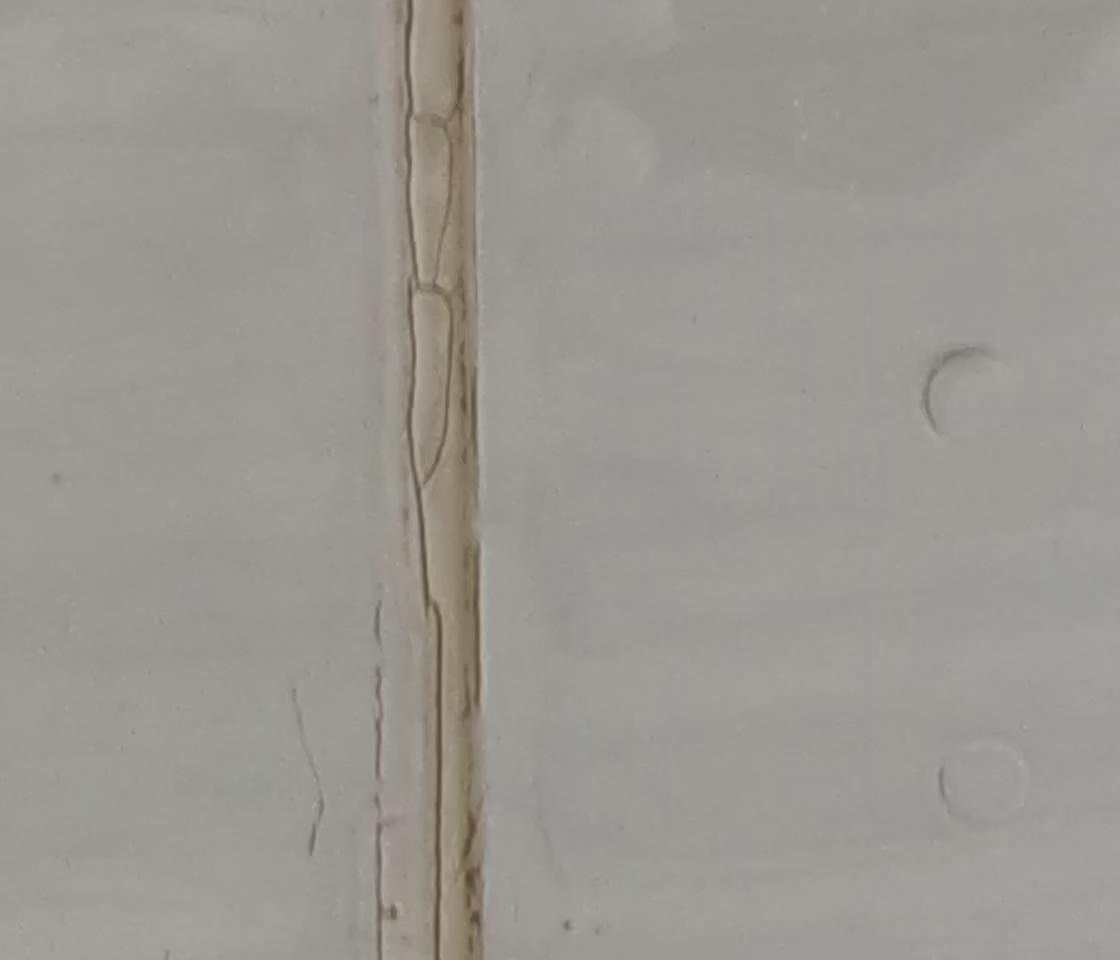scratch: (277, 682, 332, 861)
